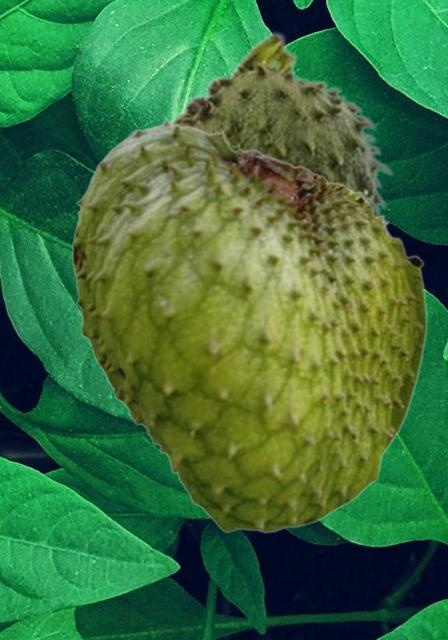guyabano: (71, 115, 427, 533), (123, 29, 393, 428)
